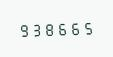eight: (44, 20, 56, 37)
five: (83, 19, 95, 35)
nine: (17, 21, 29, 37)
six: (57, 19, 69, 36), (70, 19, 82, 36)
three: (30, 20, 42, 37)
